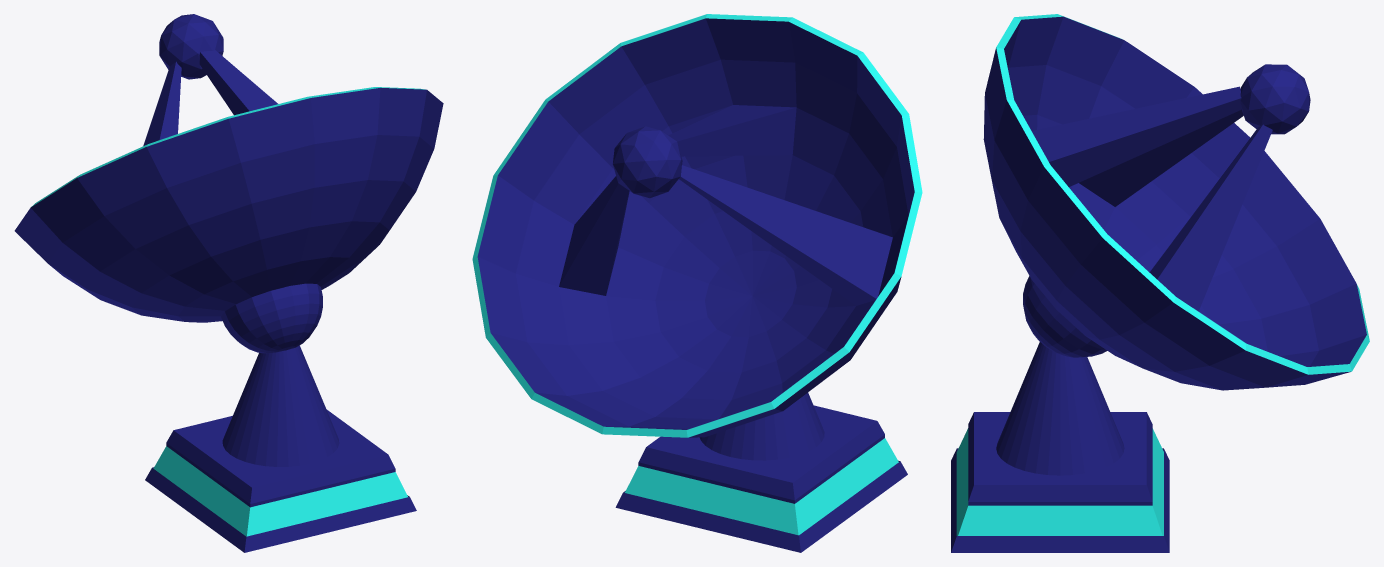
File: Antenna.fbx
3 views of the same model, side by side, from view 1: azimuth 30°, elevation 25°; view 2: azimuth 150°, elevation 25°; view 3: azimuth 270°, elevation 25° (orthographic). The views are drawn at different scales.
Visible parts, largest first — view 1: Sphere.001, Cube, Cylinder; view 2: Sphere.001, Cube, Cylinder; view 3: Sphere.001, Cube, Cylinder.
Boxes of the visible parts, box(x1,y1,x2,y2) form: Sphere.001: box(14, 14, 443, 353); Cube: box(145, 409, 416, 552); Cylinder: box(222, 345, 339, 466); Sphere.001: box(472, 14, 922, 437); Cube: box(615, 405, 907, 552); Cylinder: box(699, 392, 824, 460); Sphere.001: box(983, 14, 1369, 390); Cube: box(951, 412, 1169, 552); Cylinder: box(996, 342, 1124, 475).
Bounding box in the file's own units: 450 × 464 × 383.
